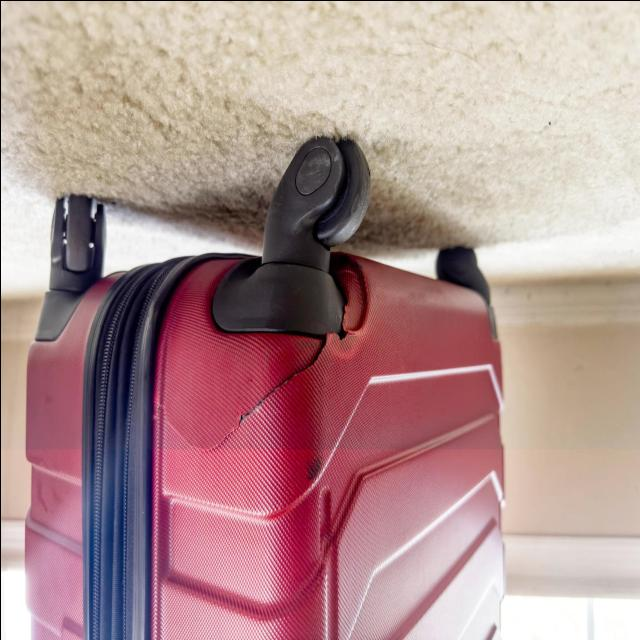Damage-bag: (152, 253, 368, 450)
